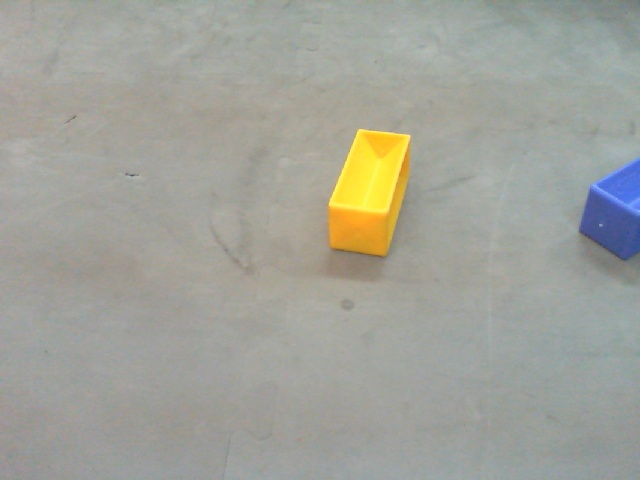BlueSample: (580, 147, 640, 265)
YellowSample: (327, 125, 413, 262)
